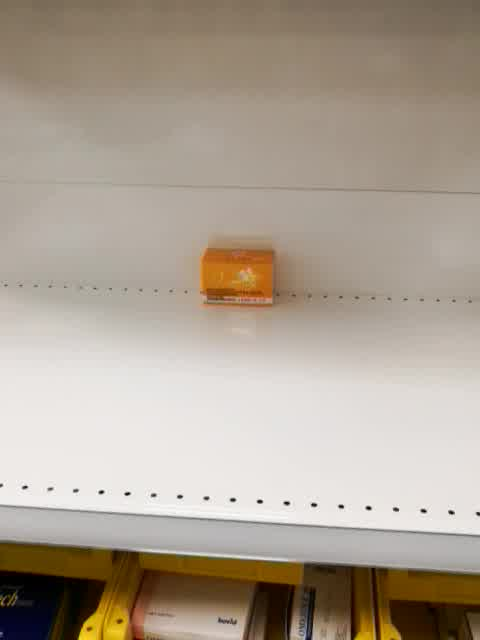jasminetea: (200, 246, 275, 310)
